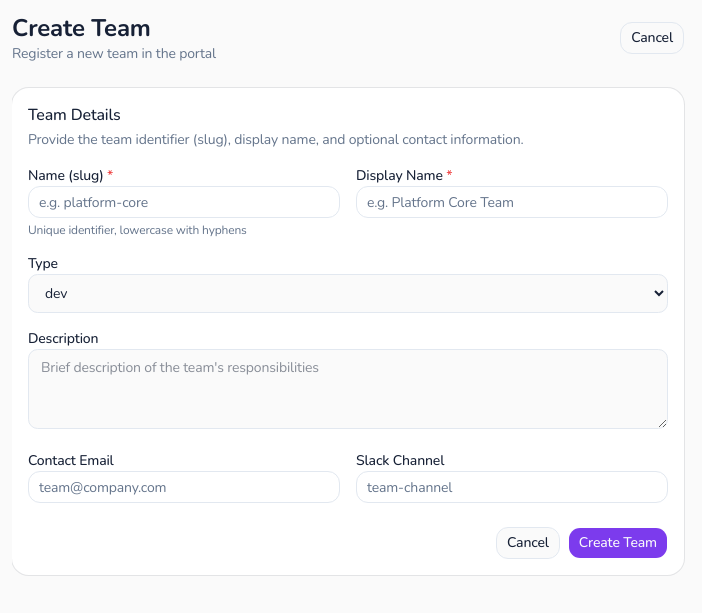
NewTeamClient › shows validation errors when required fields are empty on submit
The image size is (702, 613).
What coordinates should you click on to do the following:
click the button "Create Team"
I would click on:
 (618, 543)
Its box is [568, 527, 668, 559].
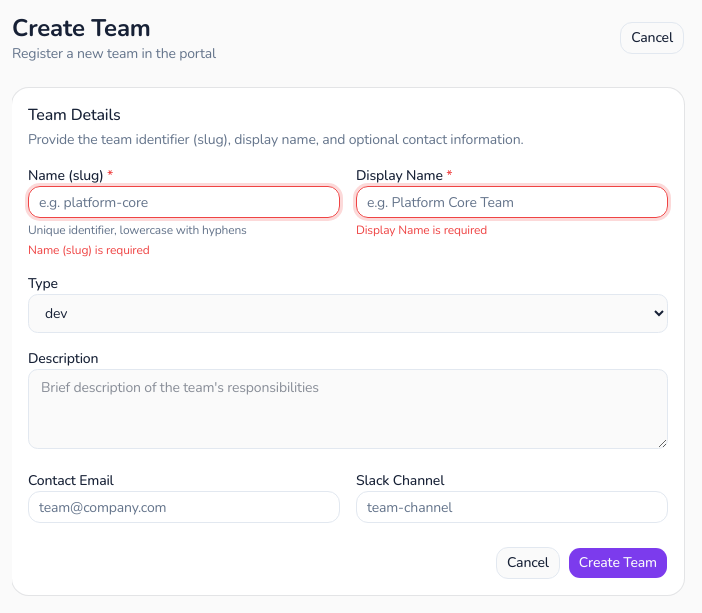
Expected: the text "Name (slug) is required" is shown, [28, 242, 150, 258]
Expected: the text "Display Name is required" is shown, [356, 222, 487, 238]
